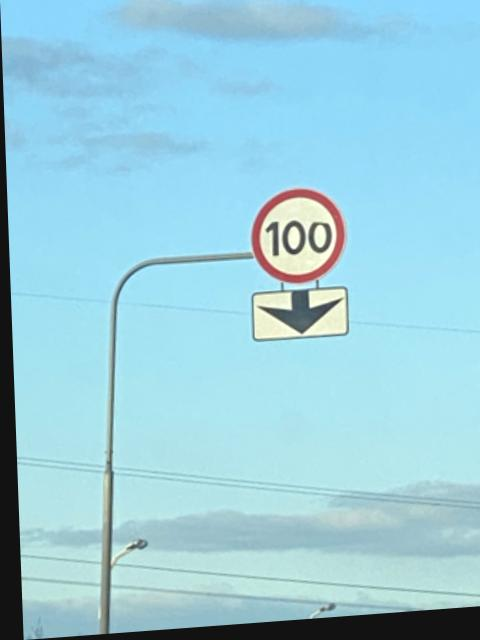limit100: (243, 185, 351, 293)
